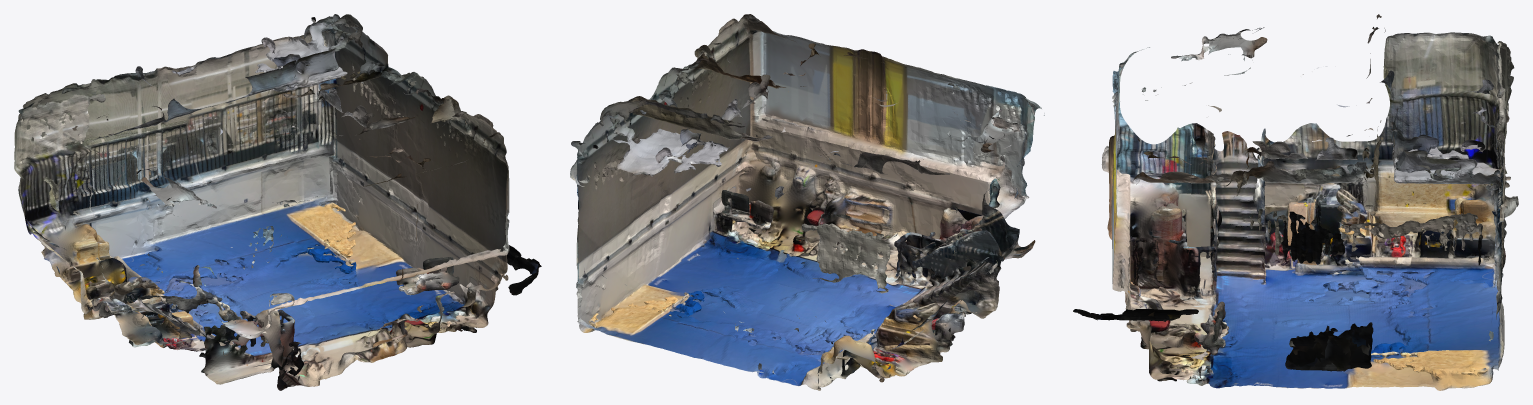
The picture shows the model from 3 angles, left to right: view 1: azimuth 30°, elevation 25°; view 2: azimuth 150°, elevation 25°; view 3: azimuth 270°, elevation 25°; orthographic projection. The views are drawn at different scales.
Size of the model in its own units: 9.12 by 5.49 by 9.36.
2 materials, 2 textured.
